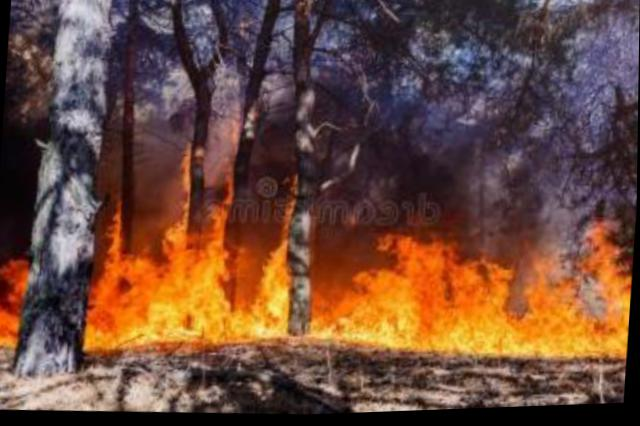fire: (79, 190, 635, 387), (0, 253, 34, 361)
